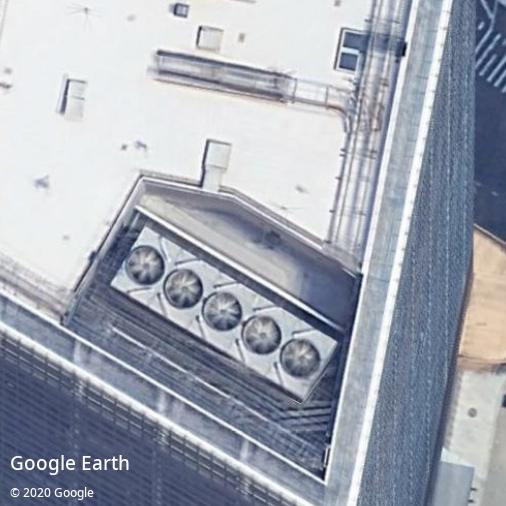Vent: (203, 292, 242, 331), (281, 339, 320, 378), (165, 269, 203, 309), (244, 315, 281, 355), (127, 247, 165, 285)
